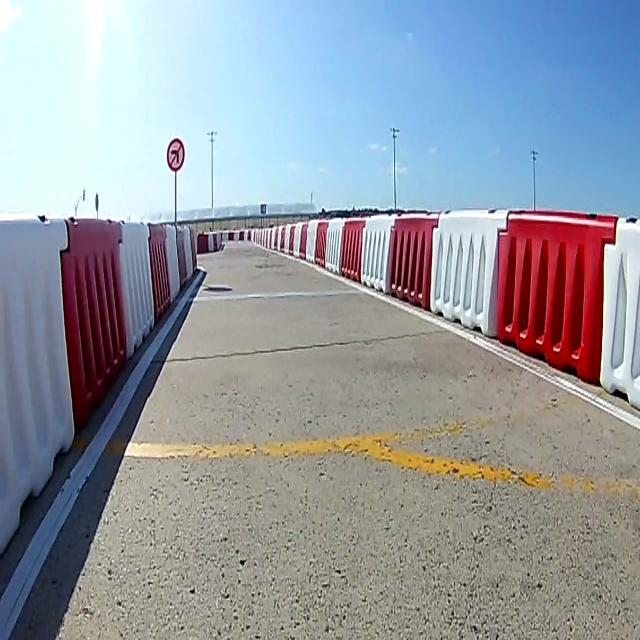soladonulmez: (167, 138, 186, 170)
